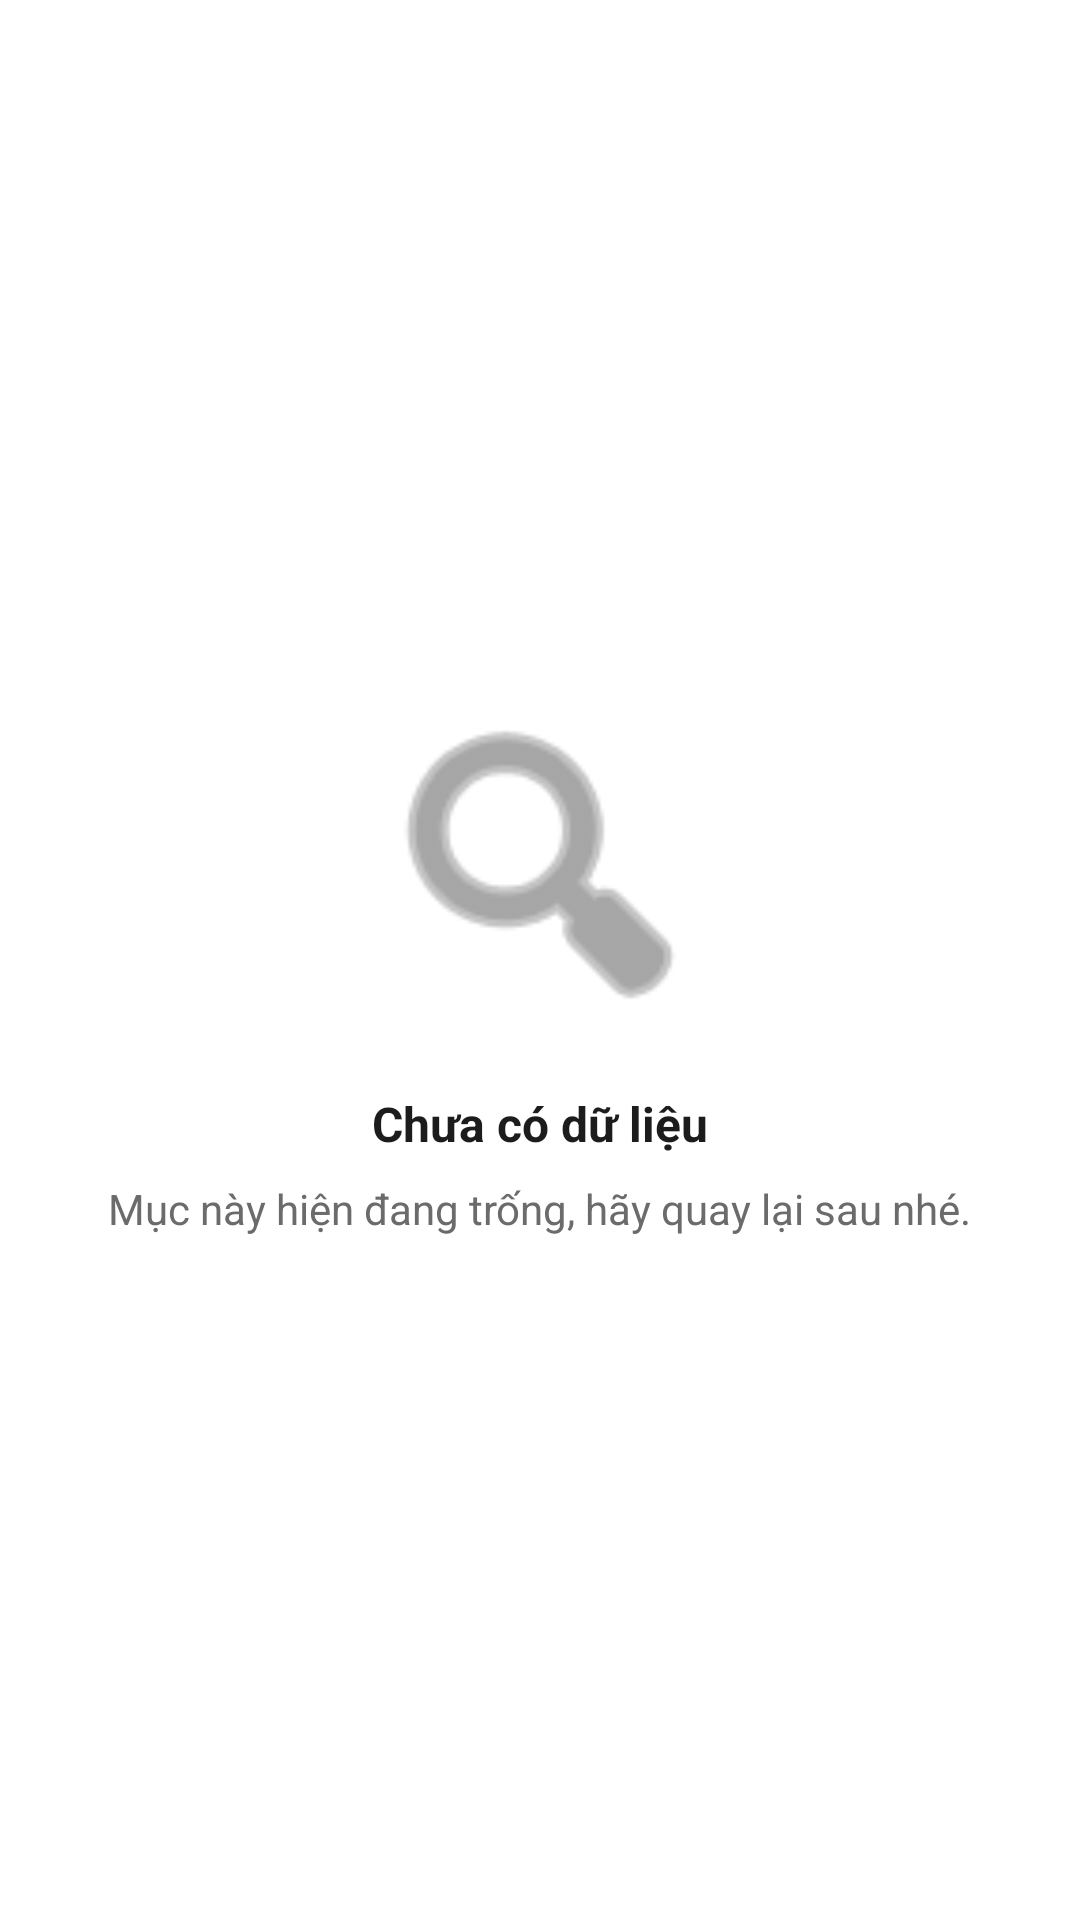

Point at icon controls on the screen. Image size 1080×1920, points as (x,y).
search: (540,865)
